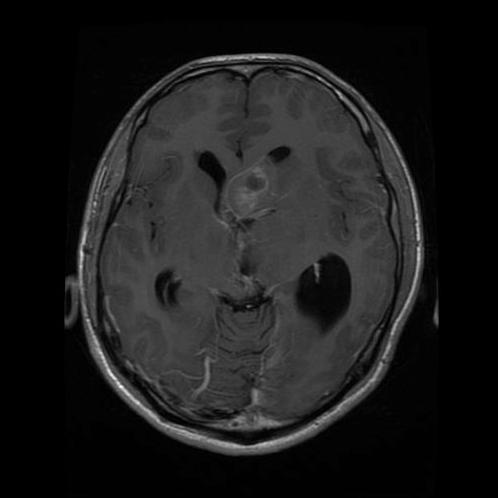Tumour-Glioma: (224, 156, 282, 232)
